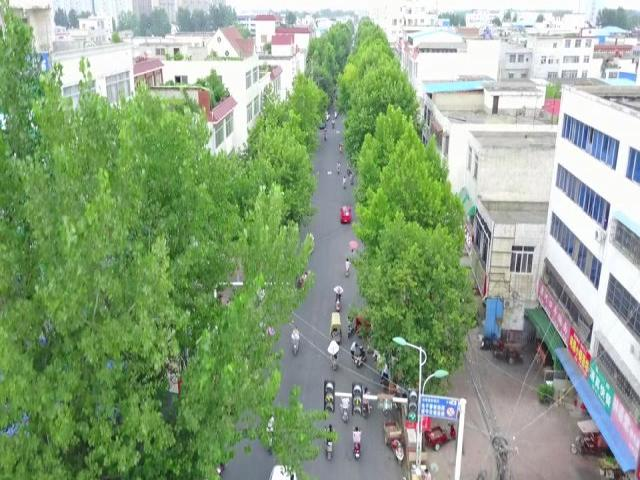out of water: (325, 421, 335, 447), (380, 360, 391, 382), (362, 386, 371, 412), (352, 426, 361, 452), (329, 345, 339, 367), (267, 410, 275, 436), (341, 390, 350, 413), (350, 340, 358, 363), (347, 308, 355, 324), (294, 325, 300, 345), (344, 256, 351, 272), (335, 287, 341, 304), (350, 244, 356, 256), (302, 272, 307, 286), (342, 175, 347, 185), (338, 140, 343, 150), (324, 128, 328, 138), (349, 171, 353, 180), (331, 118, 335, 126), (346, 163, 350, 169), (337, 161, 340, 168)
